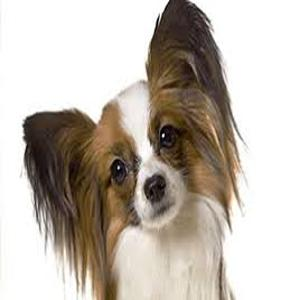yell: (24, 1, 245, 300)
